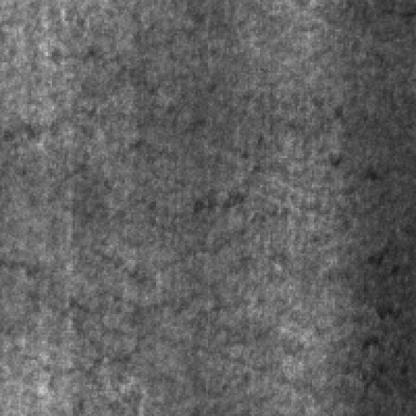crazing: (96, 200, 297, 408)
